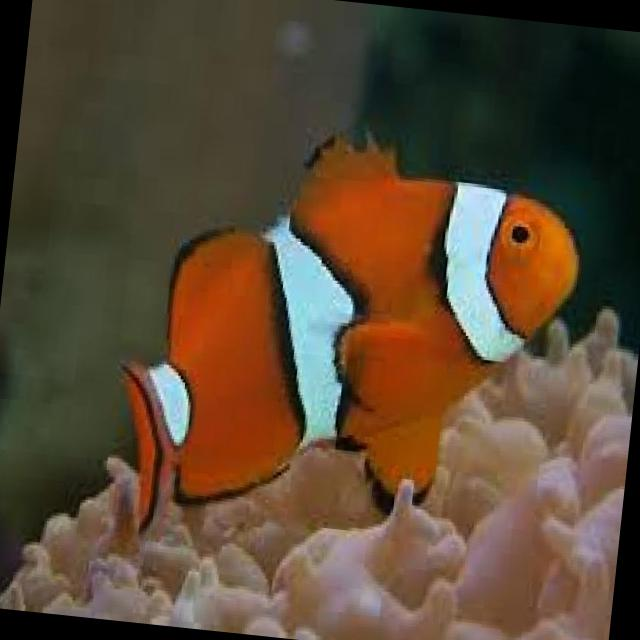ClownFish: (101, 109, 592, 577)
